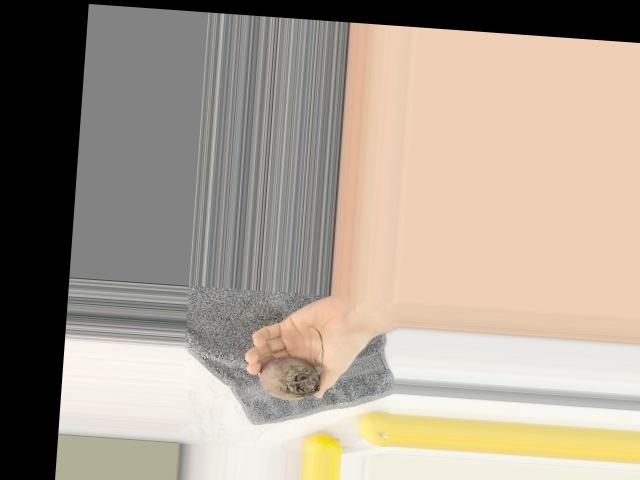beet: (256, 322, 323, 402)
